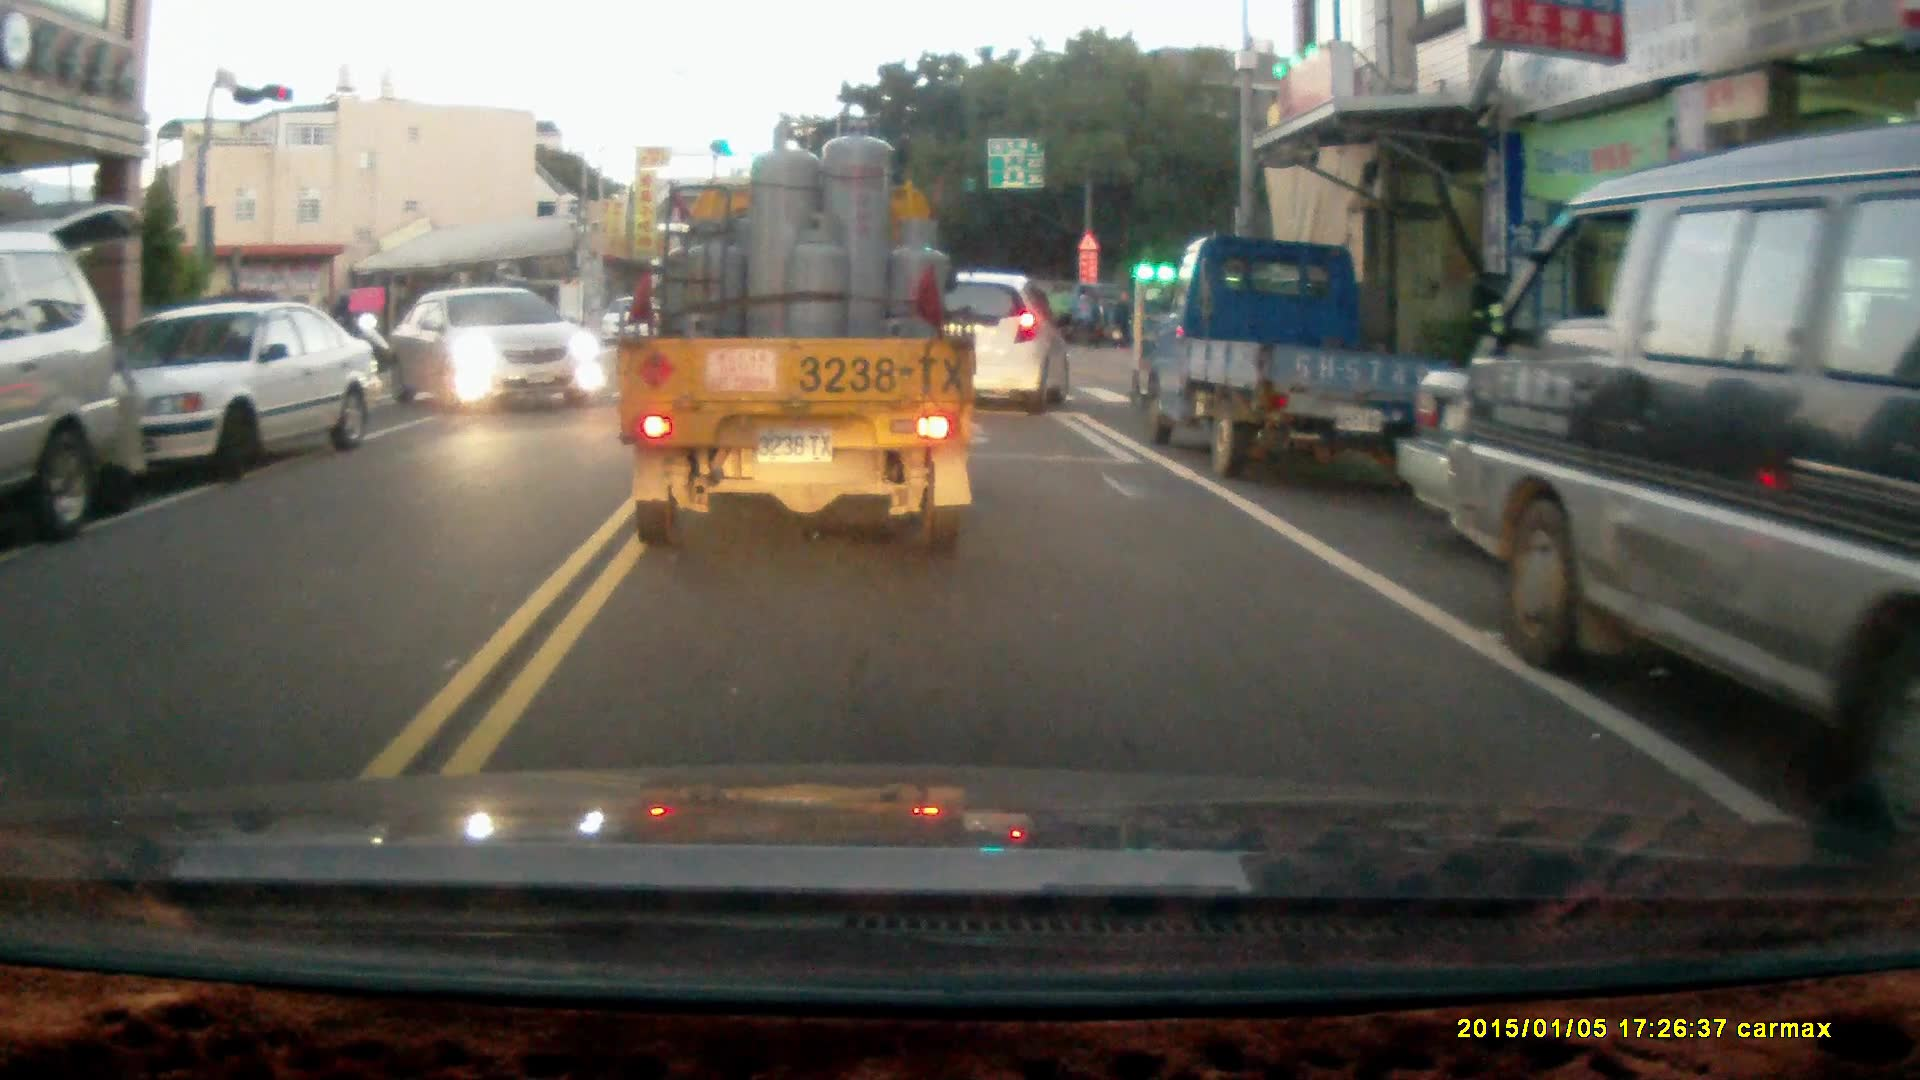rider: (309, 293, 393, 376)
vehicle: (1451, 128, 1920, 832), (617, 117, 982, 556), (1140, 236, 1439, 488), (62, 304, 388, 484), (1, 225, 135, 544), (393, 288, 611, 412), (944, 268, 1072, 408)
